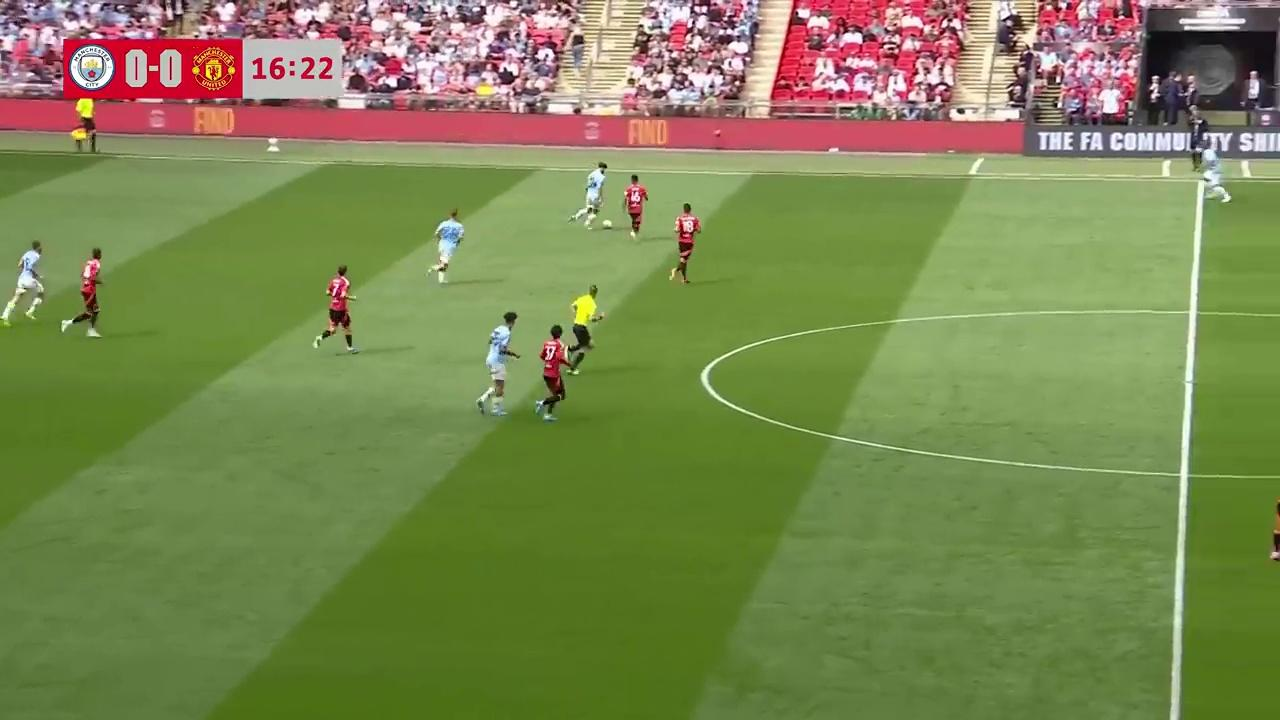ball: (602, 217, 612, 230)
player: (476, 309, 520, 416), (312, 265, 358, 353), (60, 248, 103, 338), (0, 240, 45, 325), (535, 325, 570, 421), (427, 209, 464, 285), (669, 203, 701, 285), (573, 163, 608, 230), (622, 173, 648, 239), (1199, 150, 1231, 203), (1268, 482, 1280, 592)
referee: (568, 284, 605, 373), (71, 92, 100, 154)
